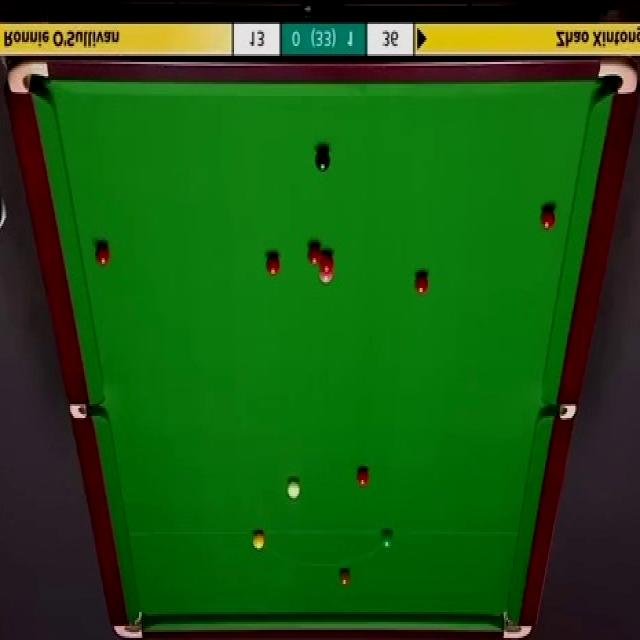black-ball: (314, 148, 331, 172)
brown-ball: (336, 567, 352, 587)
green-ball: (380, 530, 393, 551)
pink-ball: (318, 264, 331, 284)
red-ball: (539, 205, 555, 232), (93, 242, 110, 264), (354, 466, 371, 488), (308, 242, 321, 266), (414, 273, 428, 295), (320, 248, 333, 270), (266, 254, 280, 274)
white-ball: (286, 479, 302, 502)
yellow-ball: (253, 530, 265, 550)
